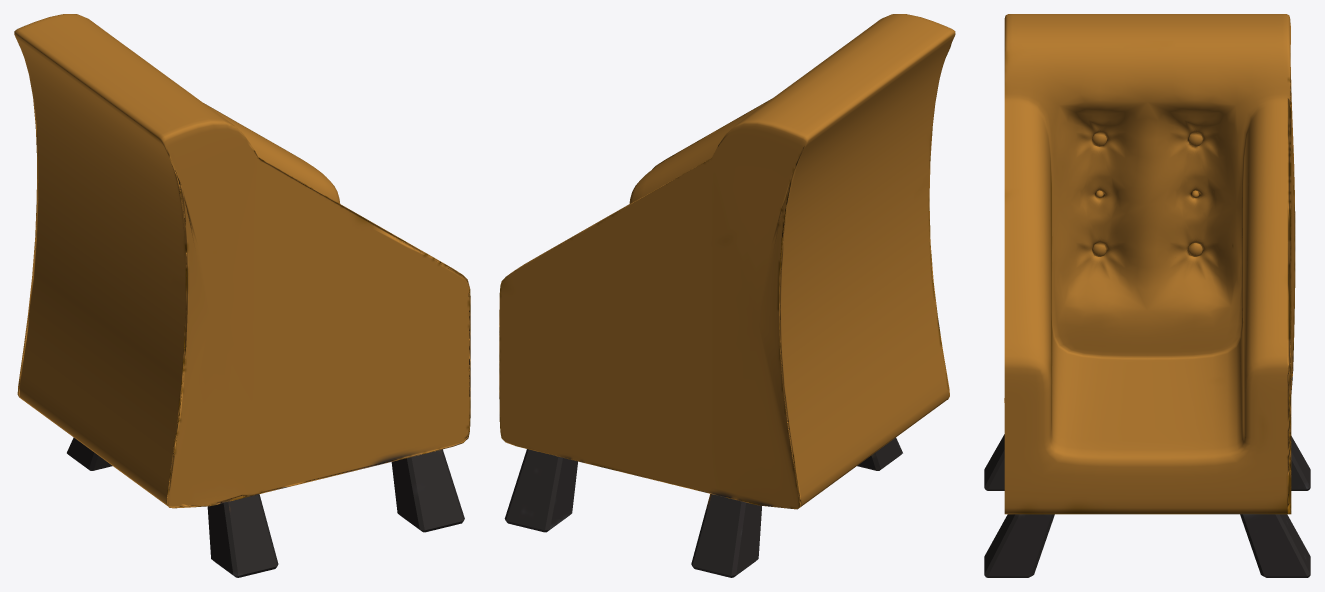
File: chair.fbx
3 views of the same model, side by side, from view 1: azimuth 30°, elevation 25°; view 2: azimuth 150°, elevation 25°; view 3: azimuth 270°, elevation 25° (orthographic). The views are drawn at different scales.
Visible parts, largest first — view 1: Plane; view 2: Plane; view 3: Plane.
Part boxes in pixels (x1,y1,x2,y2): Plane: (14,14,470,577); Plane: (499,14,955,577); Plane: (984,14,1310,577).
Size of the model in its own units: 238 by 335 by 229.
Materials: 1 (1 with a texture image).
